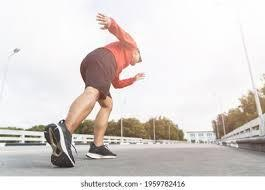Human: (44, 14, 144, 165)
